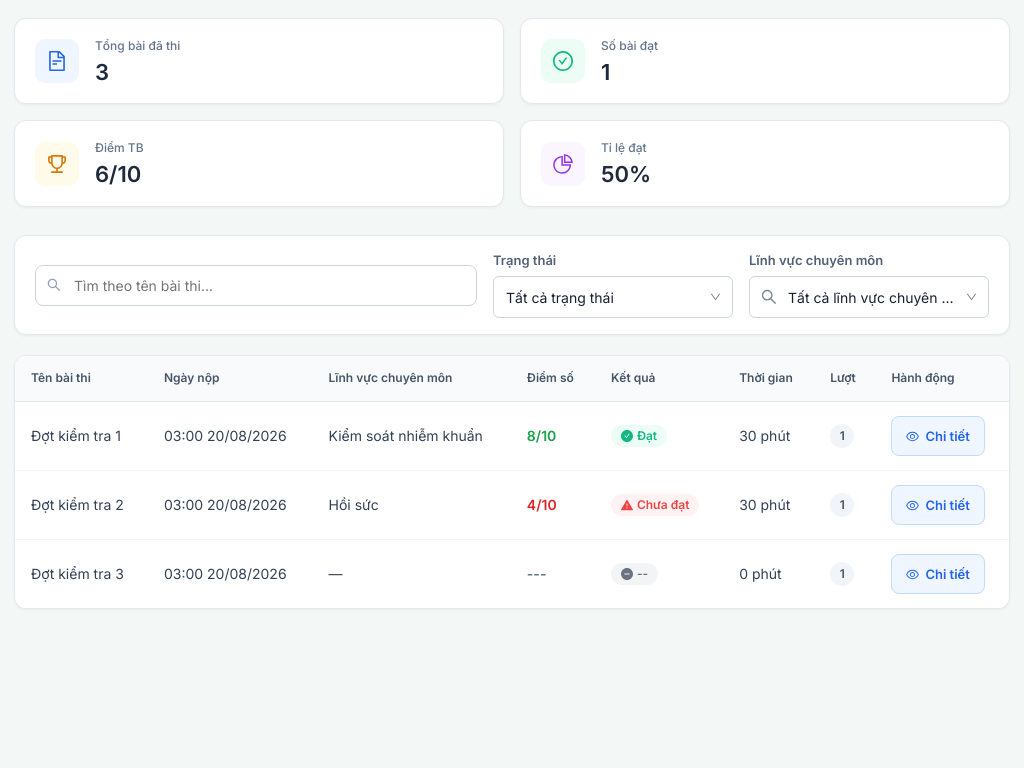
Test: ExamHistoryScreen - chi tiết lượt thi › mở chi tiết và hiển thị từng câu hỏi
Expected: the text "Đợt kiểm tra 1" is shown, [15,402,148,471]
Click the button "Chi tiết" in the row of "Đợt kiểm tra 1": (938, 436) [891,416,985,456]
(page scrolled)
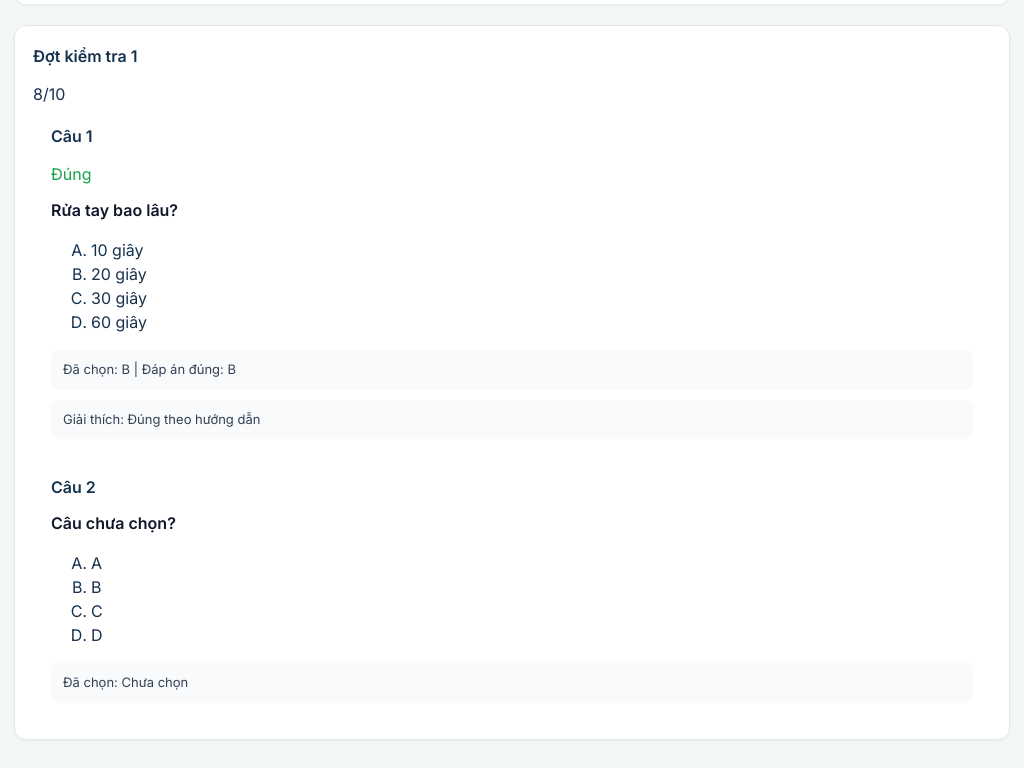
Expected: the text "Rửa tay bao lâu?" is shown, [51,200,178,220]
Expected: the text "Câu 1" is shown, [51,126,93,146]
Expected: the text "Đúng" is shown, [51,164,92,184]
